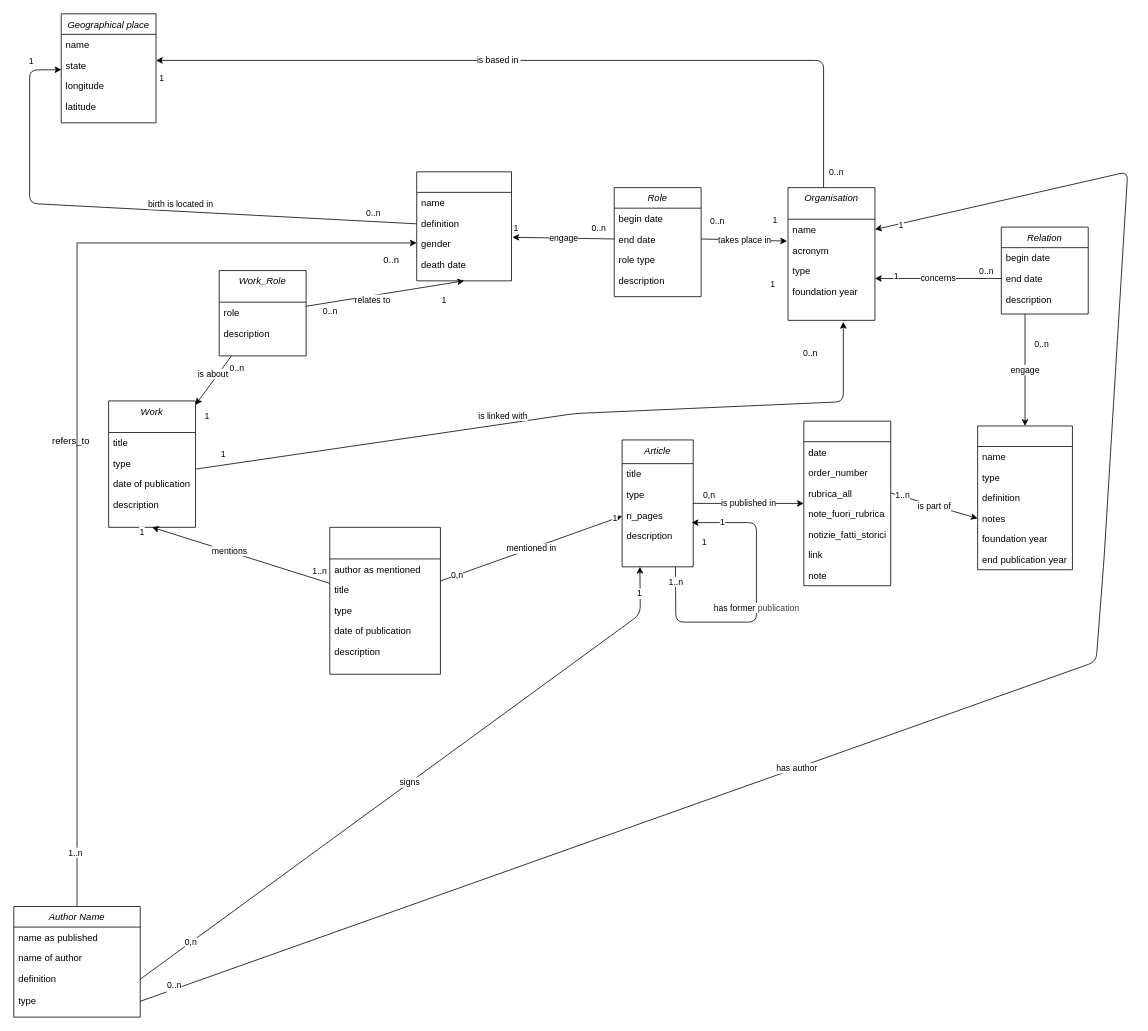
Image size: 1148x1031. Some labels were removed from this diagram. Here are the shapes that lost their labels. From the top down, the box of each, then its label:
(416, 171, 512, 281): Person
(803, 420, 891, 586): Issue
(977, 425, 1072, 570): Periodical
(329, 527, 440, 674): Work Mention
